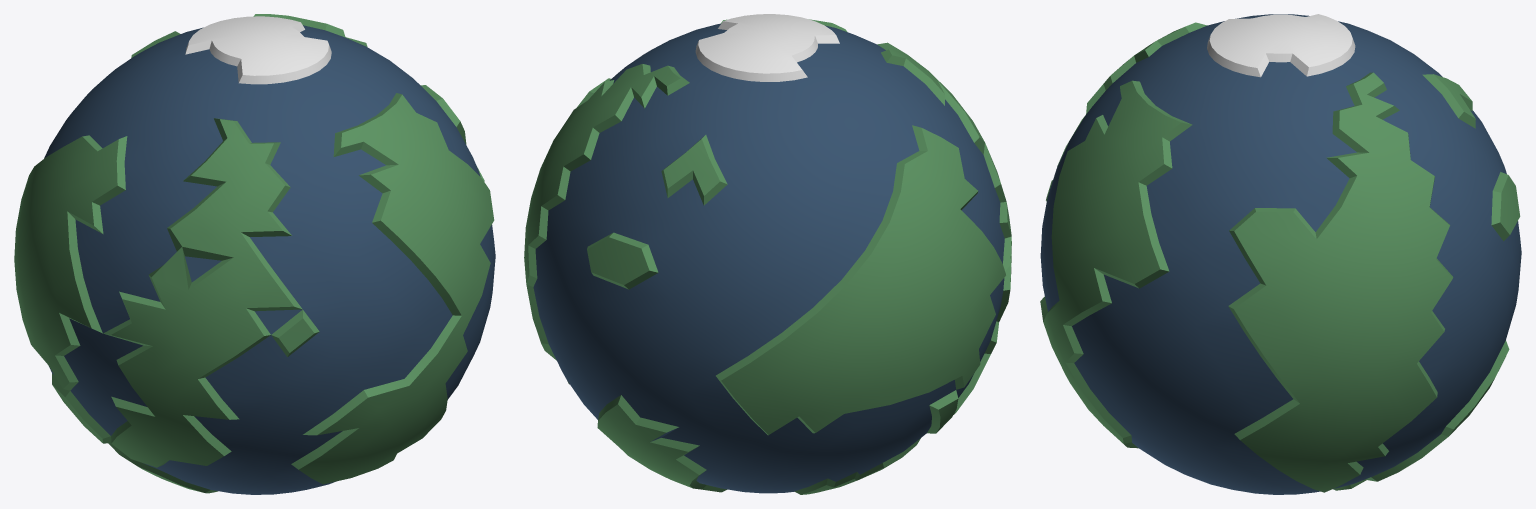
File: Earth.fbx
3 views of the same model, side by side, from view 1: azimuth 30°, elevation 25°; view 2: azimuth 150°, elevation 25°; view 3: azimuth 270°, elevation 25° (orthographic).
Parts seen in each view (by area): view 1: pSphere1; view 2: pSphere1; view 3: pSphere1.
Part boxes in pixels (box(x1,y1,x2,y2)): pSphere1: box(14, 14, 495, 494); pSphere1: box(524, 14, 1011, 494); pSphere1: box(1040, 14, 1521, 494).
Bounding box in the file's own units: 15.8 × 15.64 × 15.4.
